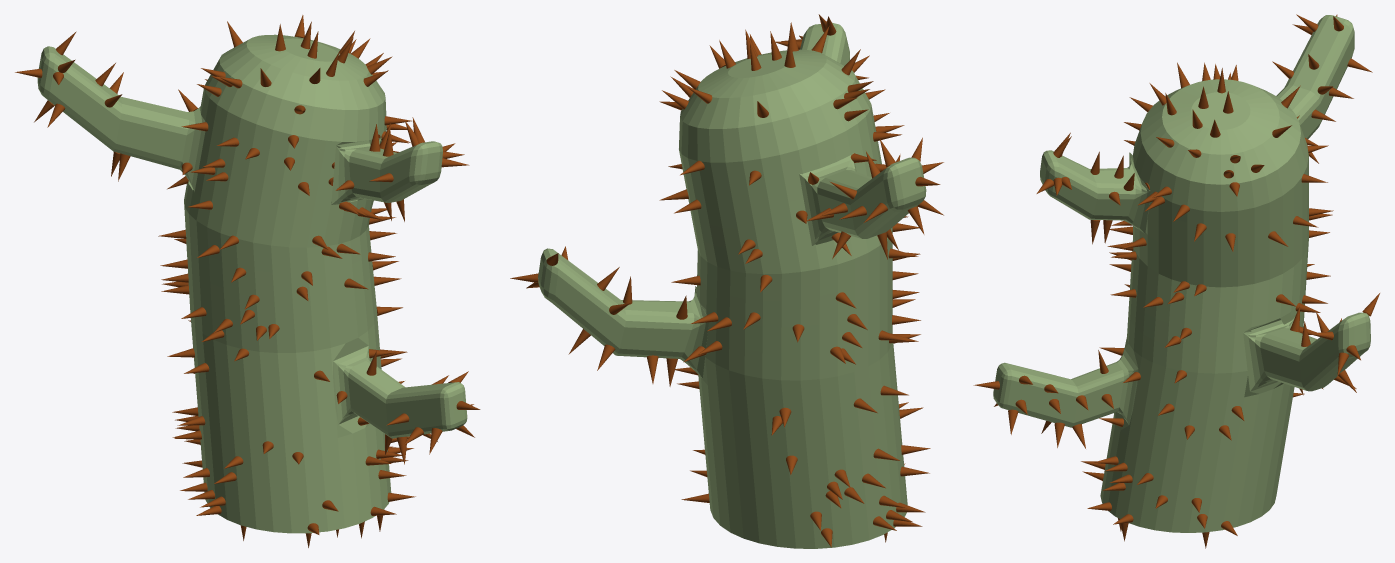
File: cactus2.fbx
3 renders of one model, left to right at view 1: azimuth 30°, elevation 25°; view 2: azimuth 150°, elevation 25°; view 3: azimuth 270°, elevation 25°, orthographic. The views are drawn at different scales.
Parts seen in each view (by area): view 1: Cactus; view 2: Cactus; view 3: Cactus.
Boxes of the visible parts, x1,y1,x2,y2 form: Cactus: (15,15,480,547); Cactus: (510,14,943,548); Cactus: (973,14,1379,548).
Size of the model in its own units: 488 by 568 by 463.
